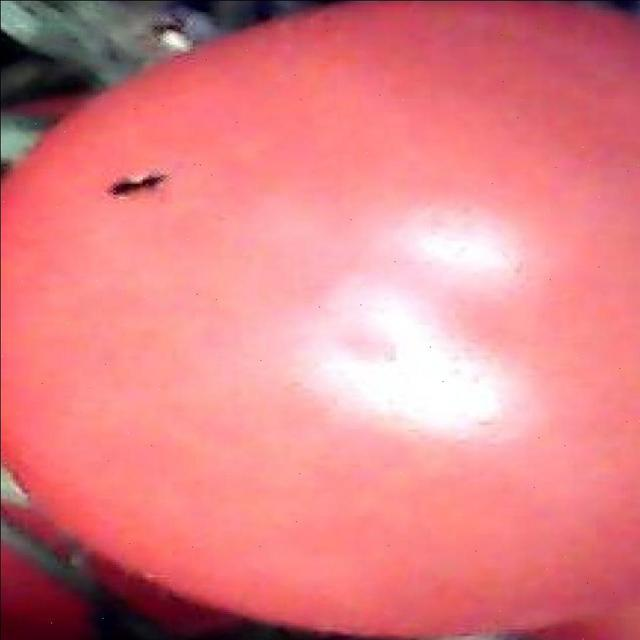Healthy Fruit: (0, 0, 424, 427)
